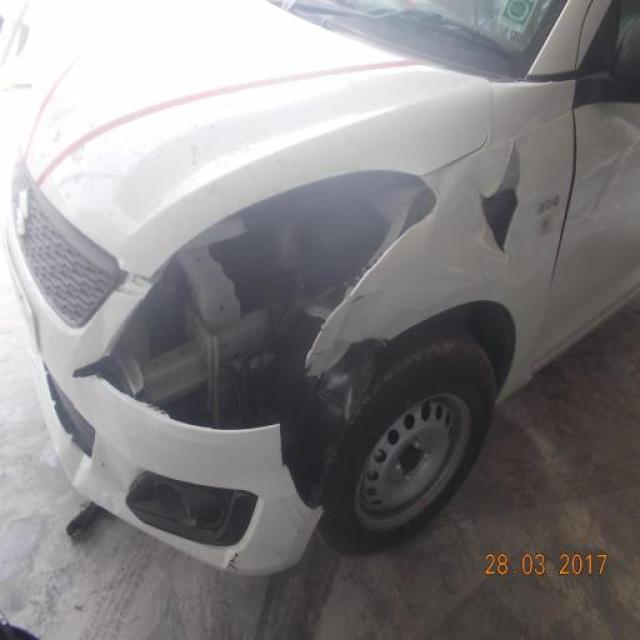missing: (66, 167, 442, 522)
scratch: (95, 442, 133, 522), (219, 546, 249, 576)
tear: (475, 136, 531, 263)
